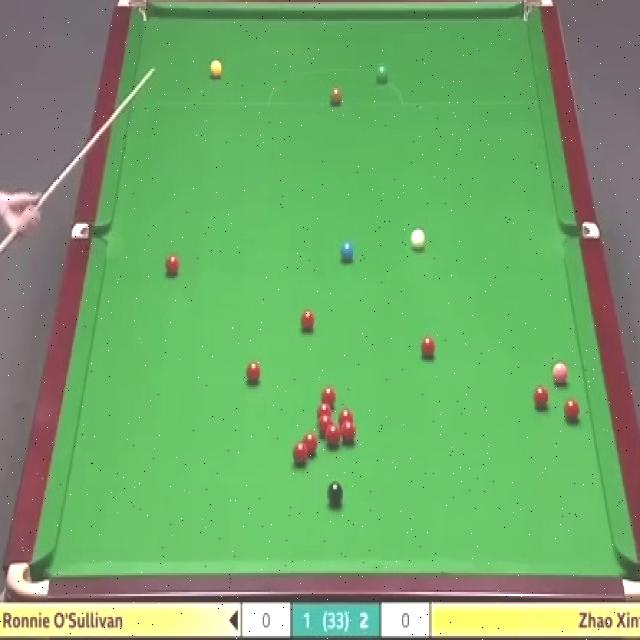black-ball: (327, 479, 343, 510)
blue-ball: (339, 240, 355, 262)
brown-ball: (329, 85, 343, 106)
green-ball: (375, 64, 389, 84)
pink-ball: (552, 360, 568, 386)
red-ball: (245, 359, 262, 388), (291, 442, 309, 468), (534, 385, 552, 410), (303, 434, 320, 460), (564, 399, 582, 422), (421, 334, 436, 360), (341, 421, 356, 446), (300, 310, 316, 332), (166, 254, 180, 278), (326, 423, 340, 447), (319, 386, 336, 404), (316, 402, 332, 419), (318, 416, 332, 435), (339, 411, 353, 424)
white-ball: (410, 226, 426, 252)
yellow-ball: (210, 60, 224, 81)
